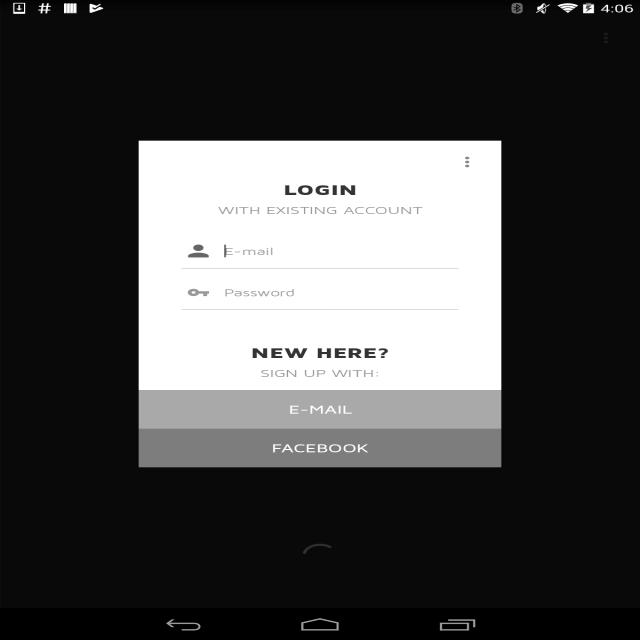Button: (139, 390, 501, 429), (139, 429, 501, 467)
EditText: (181, 275, 459, 310), (181, 234, 459, 268)
ImageButton: (147, 141, 207, 183)
TextView: (139, 344, 501, 361), (181, 181, 459, 198), (139, 367, 501, 379), (181, 204, 459, 216), (442, 146, 492, 178)
